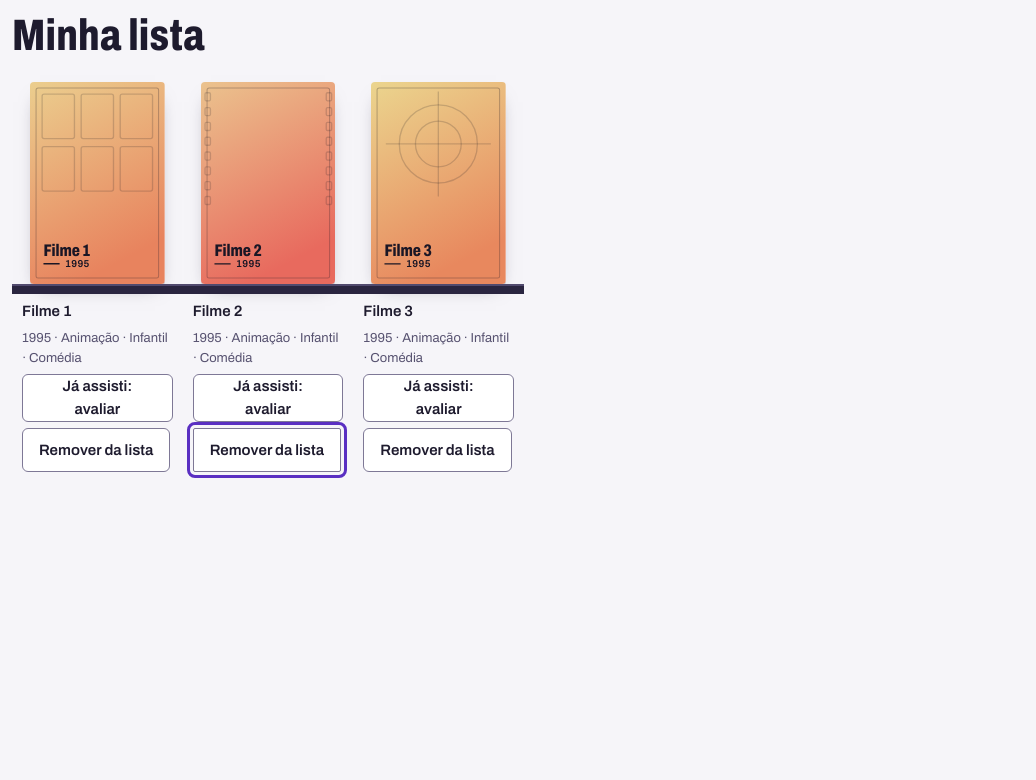
paginação depois de remoções (nenhum filme é pulado) › o foco não cai no body quando o item focado sai: vai para o item da mesma posição
Expected: the text "Filme 1" is shown, [22,303,72,319]
Click the 2nd button "Remover da lista" at (267, 450), box [193,428,341,472]
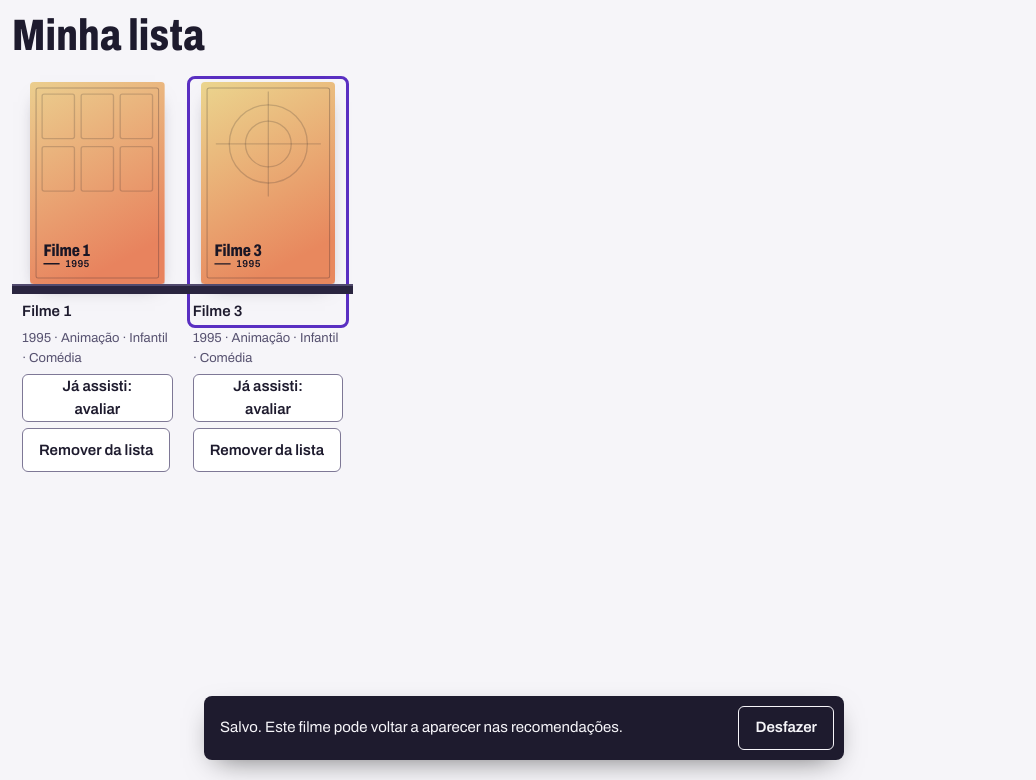
Expected: the link "Filme 2" is gone
